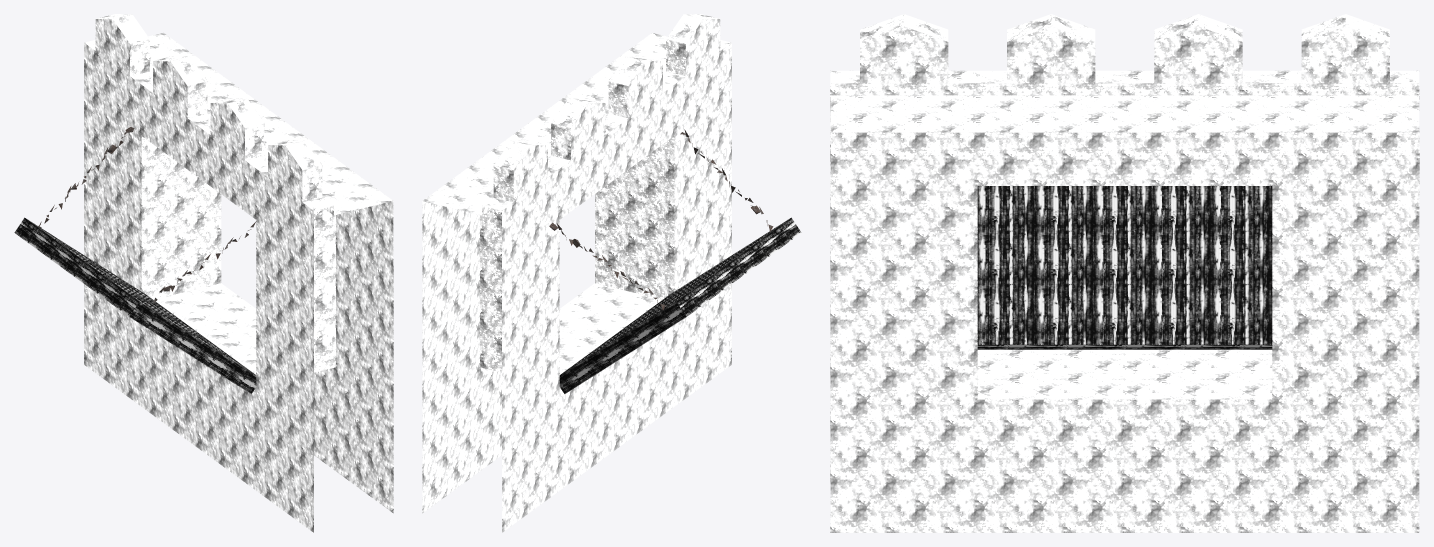
File: SM_castle_wall_02.fbx
3 views of the same model, side by side, from view 1: azimuth 30°, elevation 25°; view 2: azimuth 150°, elevation 25°; view 3: azimuth 270°, elevation 25° (orthographic). The views are drawn at different scales.
Parts seen in each view (by area): view 1: SM_castle_wall_02_LOD0; view 2: SM_castle_wall_02_LOD0; view 3: SM_castle_wall_02_LOD0.
Part boxes in pixels (x1,y1,x2,y2): SM_castle_wall_02_LOD0: [14, 14, 393, 532]; SM_castle_wall_02_LOD0: [422, 14, 801, 532]; SM_castle_wall_02_LOD0: [830, 14, 1419, 532].
Size of the model in its own units: 1039 by 2000 by 1758.
Materials: 3 (3 with a texture image).
